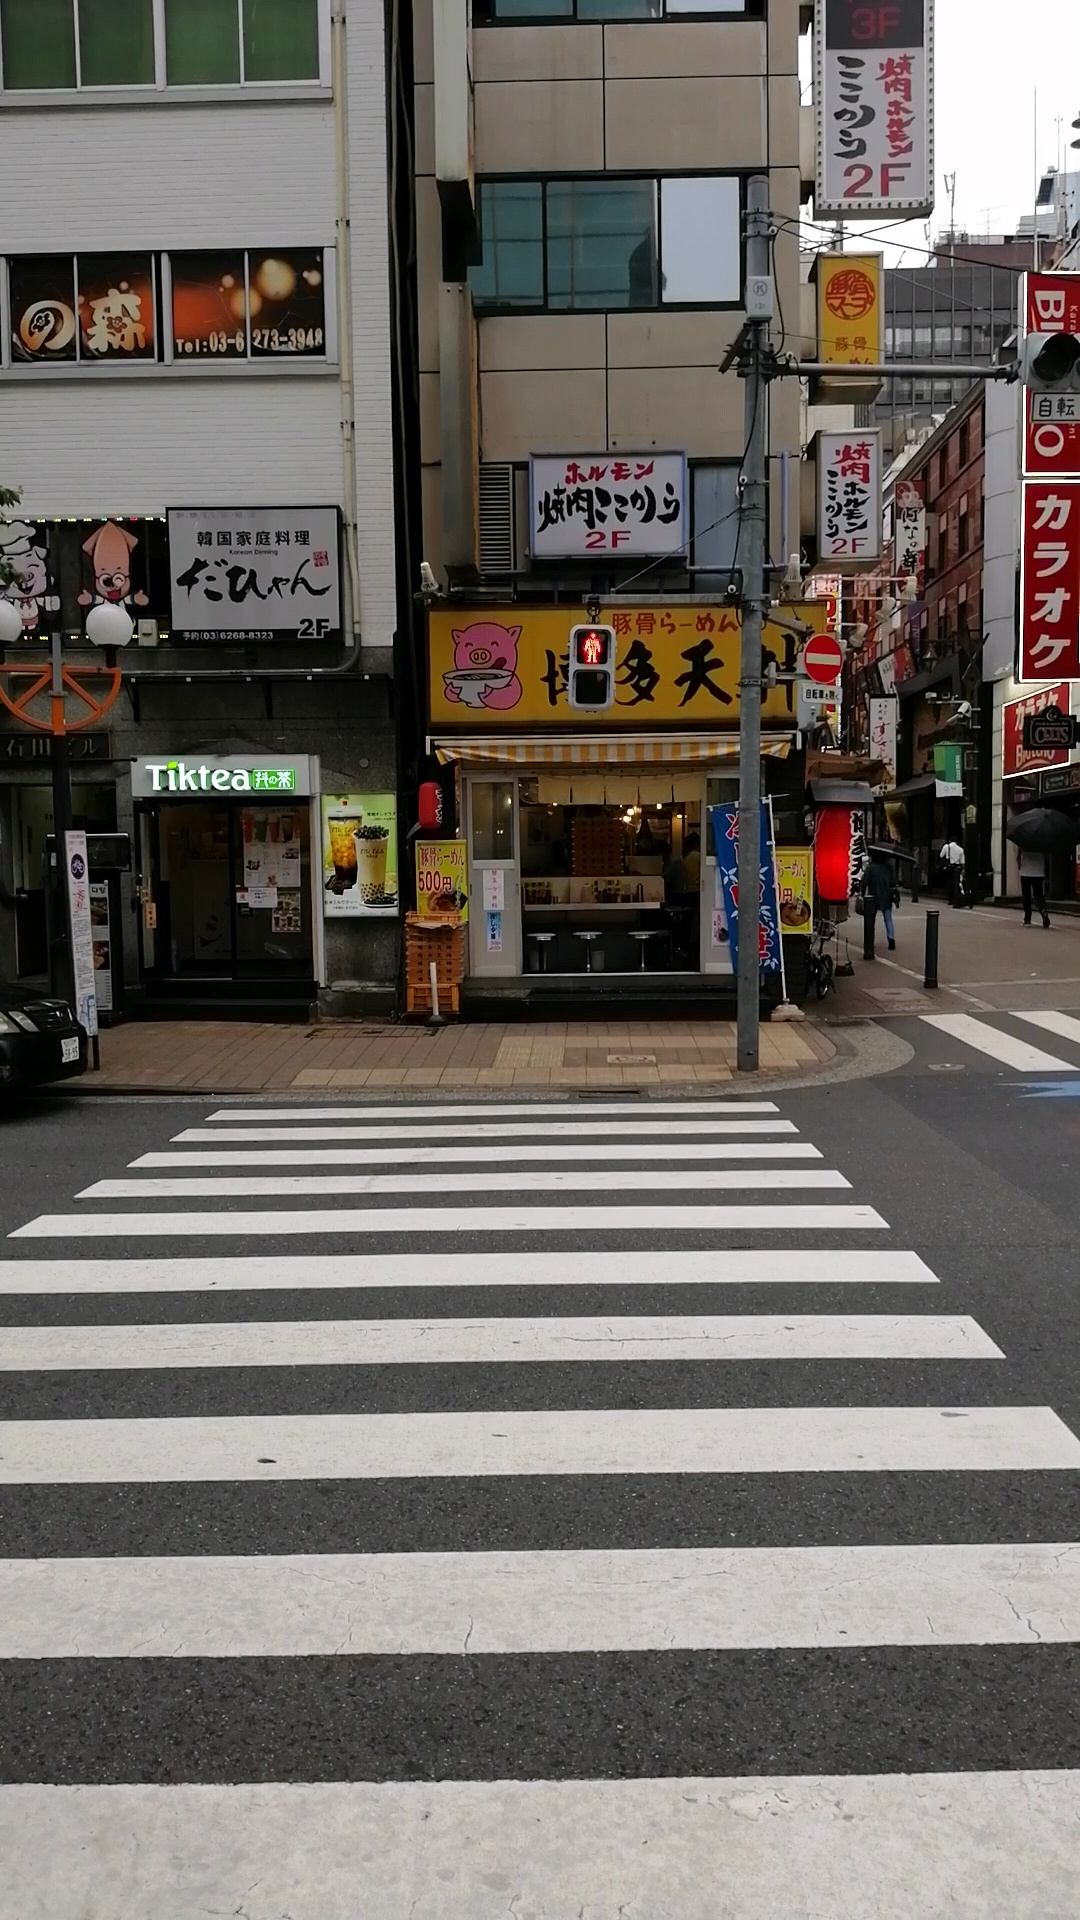red: (567, 622, 615, 709)
